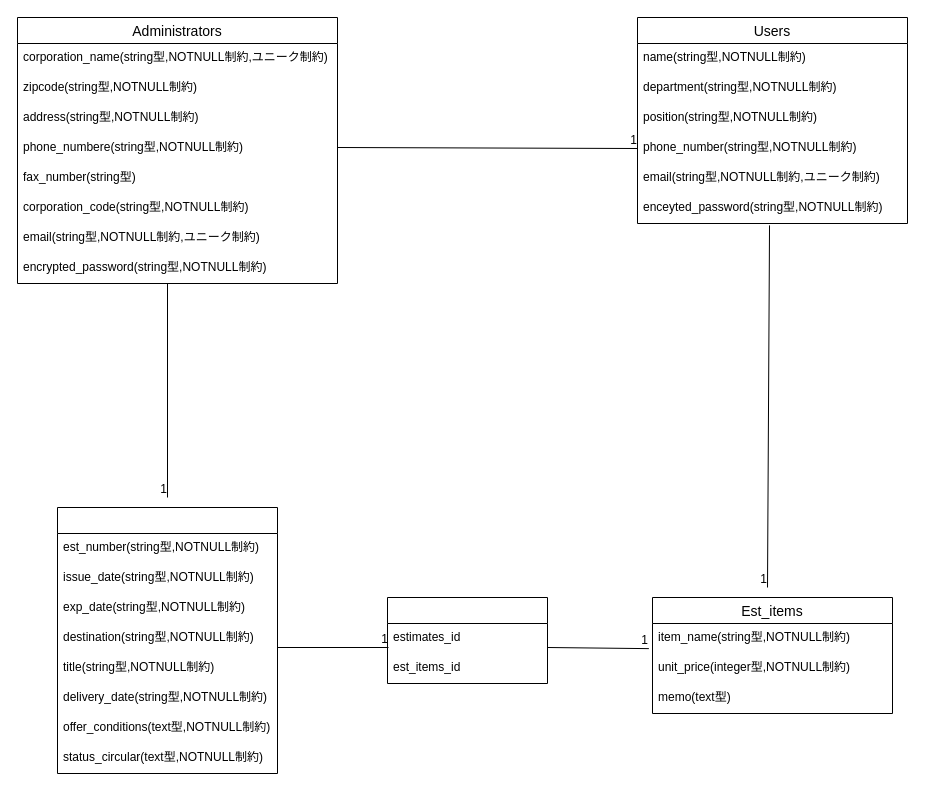
Some shapes in this 925 by 794 pixel diagram are drawn without their labels. Here are the shapes that lost their labels. From the top down, the box of each, then its label:
(56, 506, 278, 774): Estimates
(386, 596, 548, 684): Estimates_items_tags
